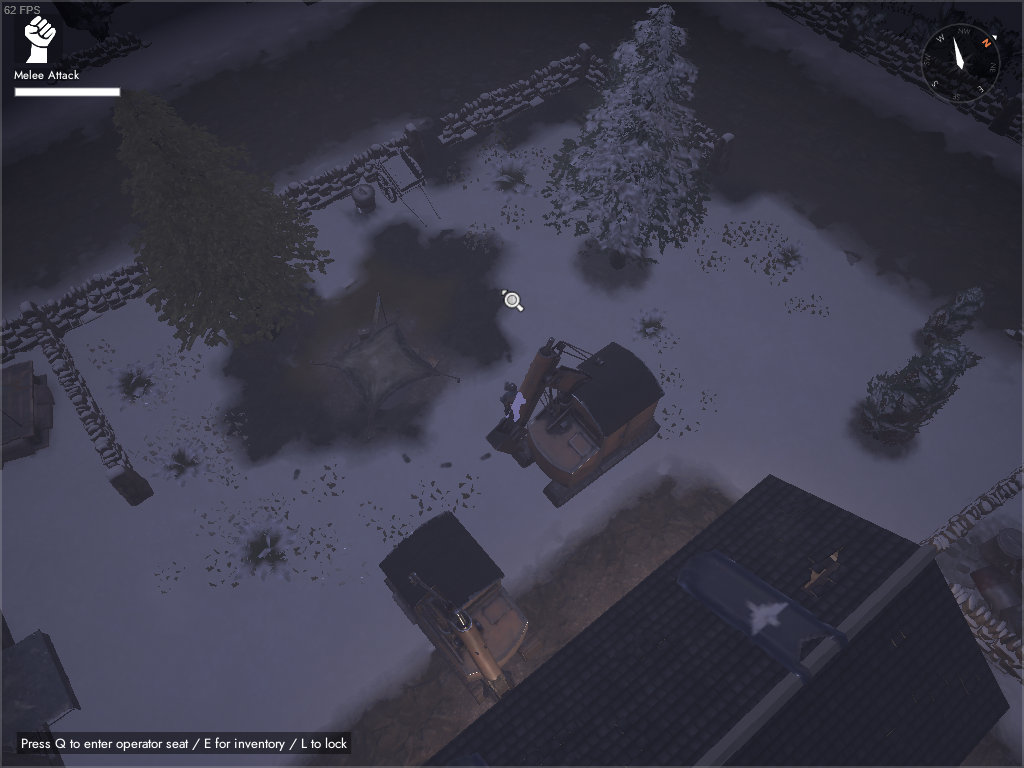foxhole: (307, 292, 461, 440)
pillbox: (1, 358, 54, 470)
player: (499, 382, 528, 423)
scv: (485, 338, 663, 509), (378, 509, 533, 705)
vehicle_operator_toggle: (17, 733, 350, 754)
